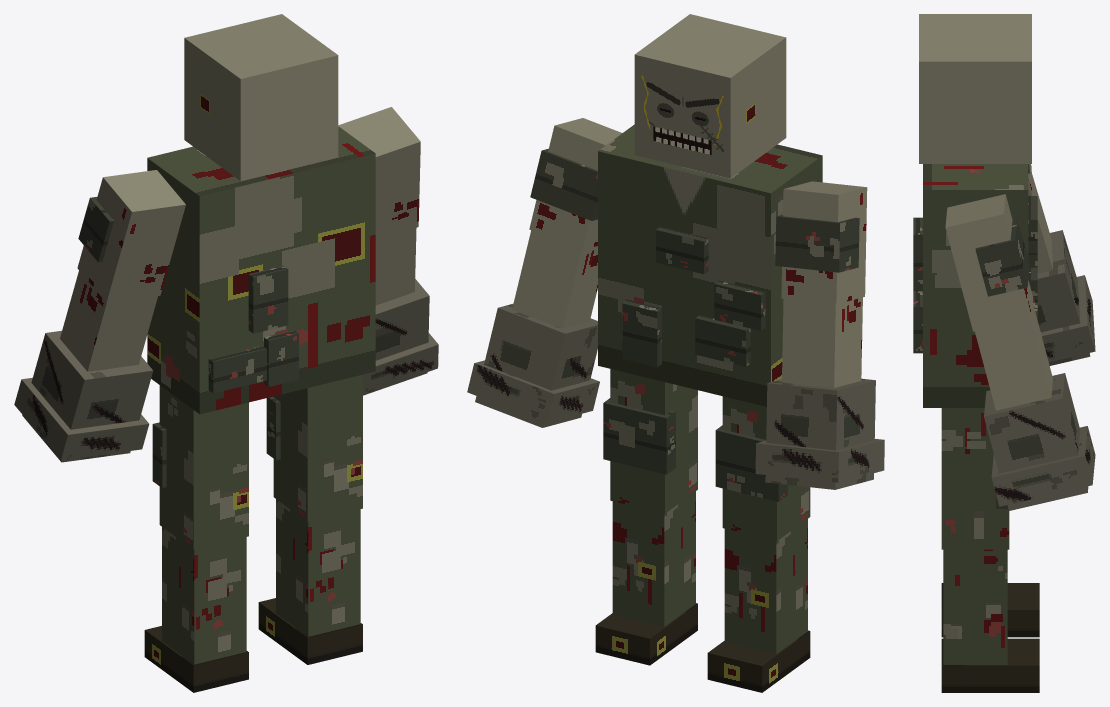
The model's file is mon_zombie_kevlar_1.glb.
3 views of the same model, side by side, from view 1: azimuth 30°, elevation 25°; view 2: azimuth 150°, elevation 25°; view 3: azimuth 270°, elevation 25° (orthographic).
Parts seen in each view (by area): view 1: block_torso, block_head, block_thigh.L, block_thigh.R, block_shin.L, block_shin.R, block_upper_arm.L, block_cudgel.L, block_kevlar (×3), block_upper_arm.R, block_forearm.L, block_cudgel-knot.L (+8 smaller); view 2: block_torso, block_head, block_shin.L, block_shin.R, block_kevlar (×4), block_cudgel.L, block_cudgel.R, block_thigh.R, block_forearm.L, block_forearm.R, block_upper_arm.L, block_thigh.L (+9 smaller); view 3: block_head, block_torso, block_thigh.R, block_shin.R, block_cudgel.R, block_upper_arm.R, block_forearm.R, block_cudgel-knot.R, block_foot.R, block_cudgel.L, block_kevlar.R, block_cudgel-knot.L (+3 smaller).
Part boxes in pixels (x1,y1,x2,y2): block_torso: (147,126,375,414); block_head: (184,14,338,181); block_thigh.L: (159,385,248,549); block_thigh.R: (273,374,362,521); block_shin.L: (162,527,246,664); block_shin.R: (276,499,360,636); block_upper_arm.L: (77,170,185,302); block_cudgel.L: (22,330,153,462); block_kevlar (×3): (208,265,298,393); block_upper_arm.R: (338,107,420,241); block_forearm.L: (60,270,157,371); block_cudgel-knot.L: (14,377,149,460); block_torso: (598,124,822,406); block_head: (634,14,786,178); block_shin.L: (724,519,807,654); block_shin.R: (612,491,695,626); block_kevlar (×4): (622,226,765,367); block_cudgel.L: (765,378,875,489); block_cudgel.R: (475,304,597,427); block_thigh.R: (610,369,697,513); block_forearm.L: (782,297,862,387); block_forearm.R: (512,230,597,328); block_upper_arm.L: (781,181,867,304); block_thigh.L: (722,396,810,541); block_head: (919,14,1031,163); block_torso: (923,164,1028,407); block_thigh.R: (941,408,1009,549); block_shin.R: (943,549,1007,664); block_cudgel.R: (984,373,1088,510); block_upper_arm.R: (945,194,1033,331); block_forearm.R: (975,304,1052,410); block_cudgel-knot.R: (991,426,1095,506); block_foot.R: (941,638,1039,692); block_cudgel.L: (1037,230,1090,365); block_kevlar.R: (975,217,1029,296); block_cudgel-knot.L: (1041,275,1095,362).
Bounding box in the file's own units: 1.16 × 1.8 × 0.4839.
Materials: 1 (1 with a texture image).
